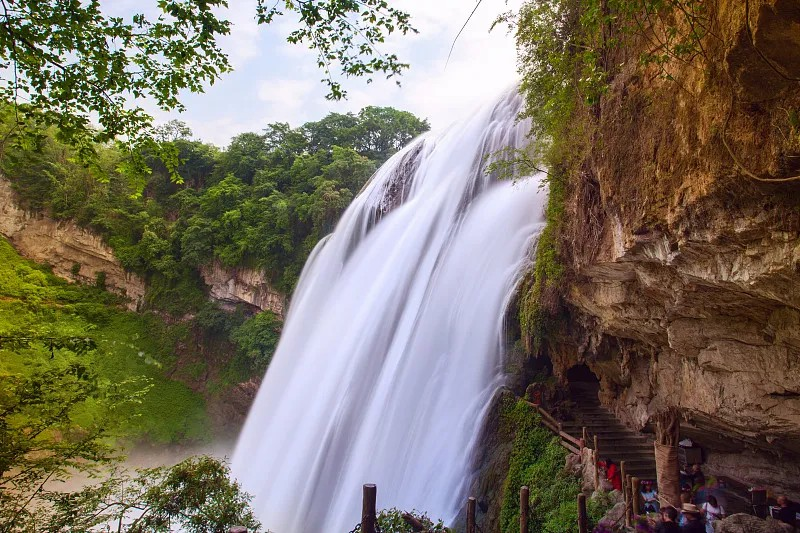Huangguoshu: (230, 90, 553, 533)
